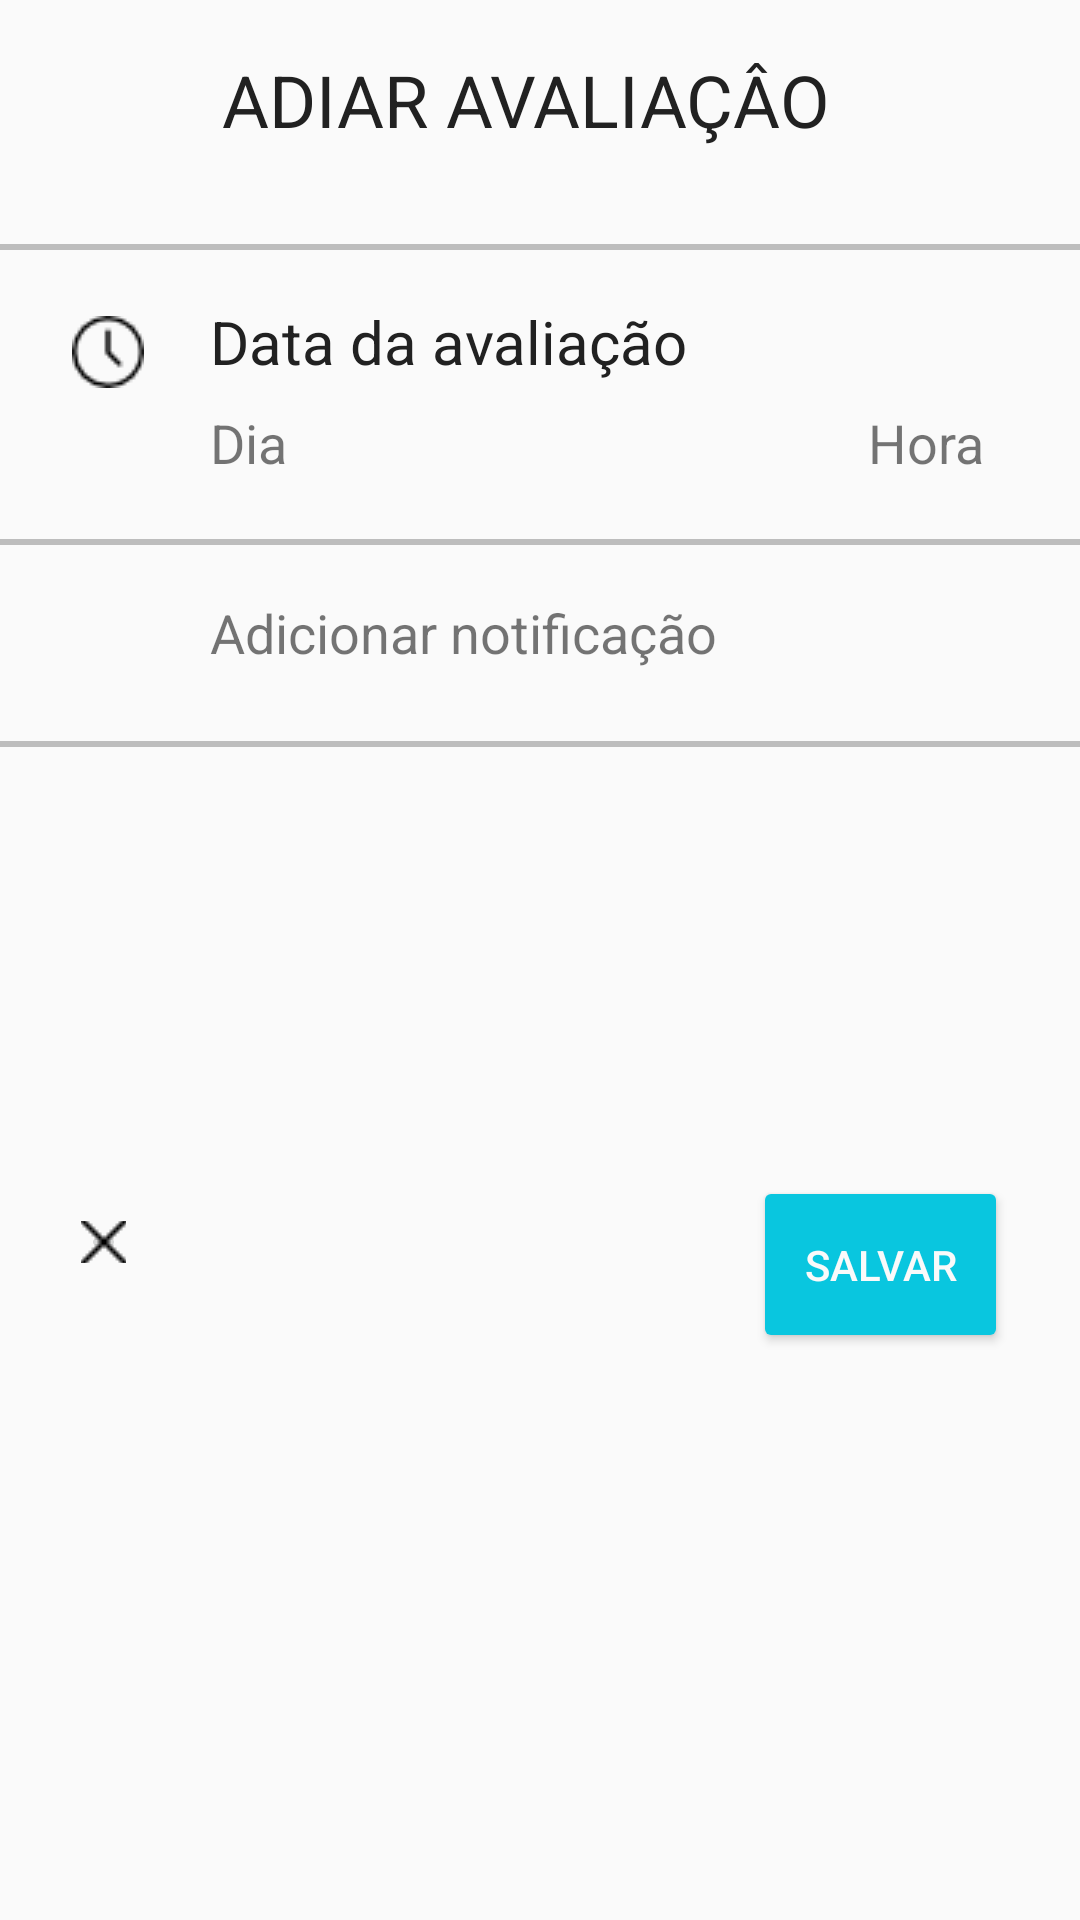

Screen size 1080w x 1920h. Icon name, then its center in pixels as [x,y]:
cancel: [103,1242]
clock: [108,352]
